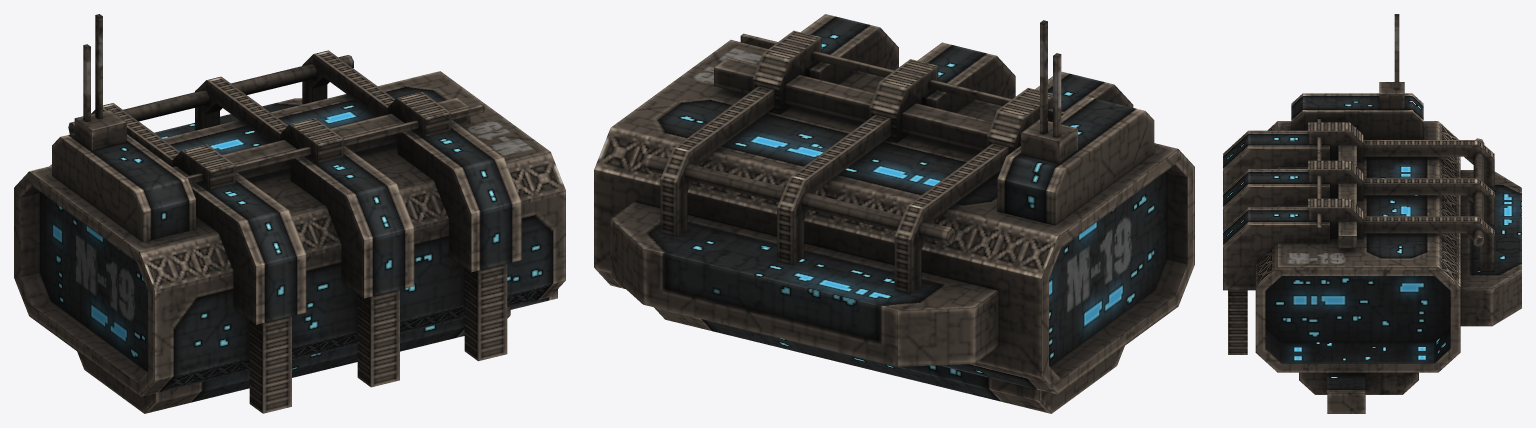
The model's file is space_station_4.obj.
The picture shows the model from 3 angles, left to right: view 1: azimuth 30°, elevation 25°; view 2: azimuth 150°, elevation 25°; view 3: azimuth 270°, elevation 25°; orthographic projection. The views are drawn at different scales.
Parts seen in each view (by area): view 1: space_station_4; view 2: space_station_4; view 3: space_station_4.
Boxes of the visible parts, box(x1,y1,x2,y2) form: space_station_4: box(14, 14, 565, 413); space_station_4: box(594, 14, 1194, 413); space_station_4: box(1223, 14, 1521, 413).
Bounding box in the file's own units: 45.33 × 33.93 × 35.63.
Materials: 1 (1 with a texture image).
